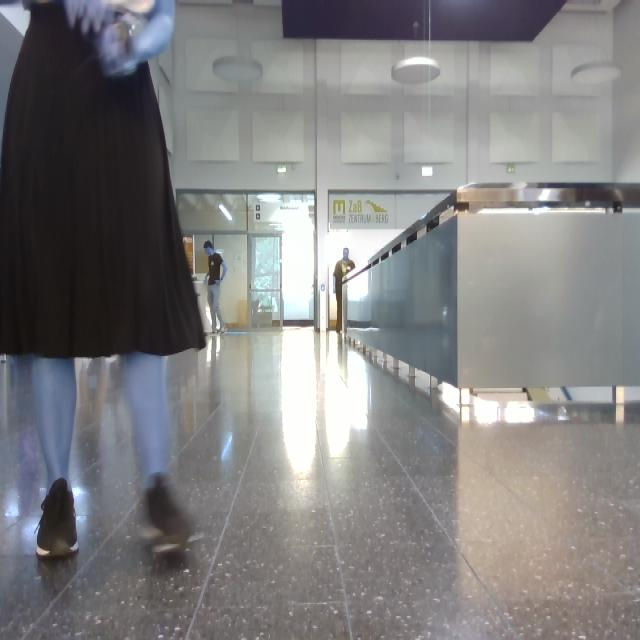door: (215, 236, 249, 327), (196, 236, 206, 262)
light bulb: (96, 1, 176, 78), (97, 14, 146, 79), (392, 58, 441, 84), (214, 58, 262, 84), (392, 59, 441, 84), (572, 63, 622, 84), (219, 204, 234, 222)
person: (1, 1, 206, 558), (205, 241, 229, 334), (335, 249, 356, 332)
staircase: (347, 184, 640, 389)
tiled floor: (1, 329, 640, 639)
